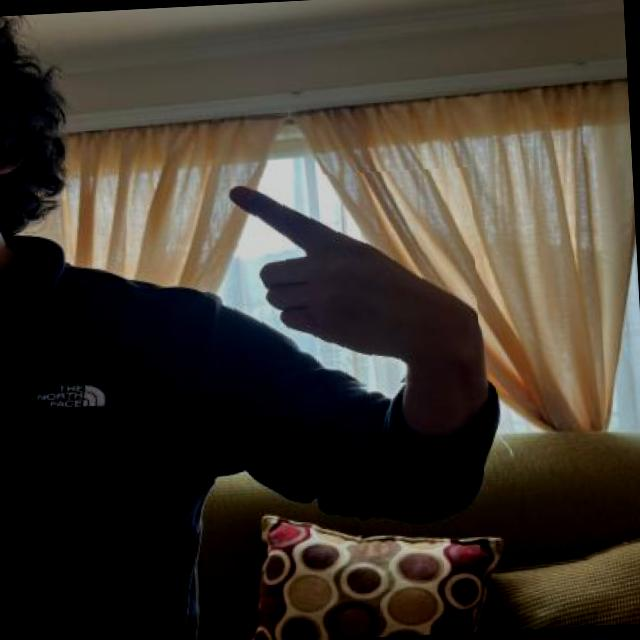Q: (214, 167, 482, 399)
